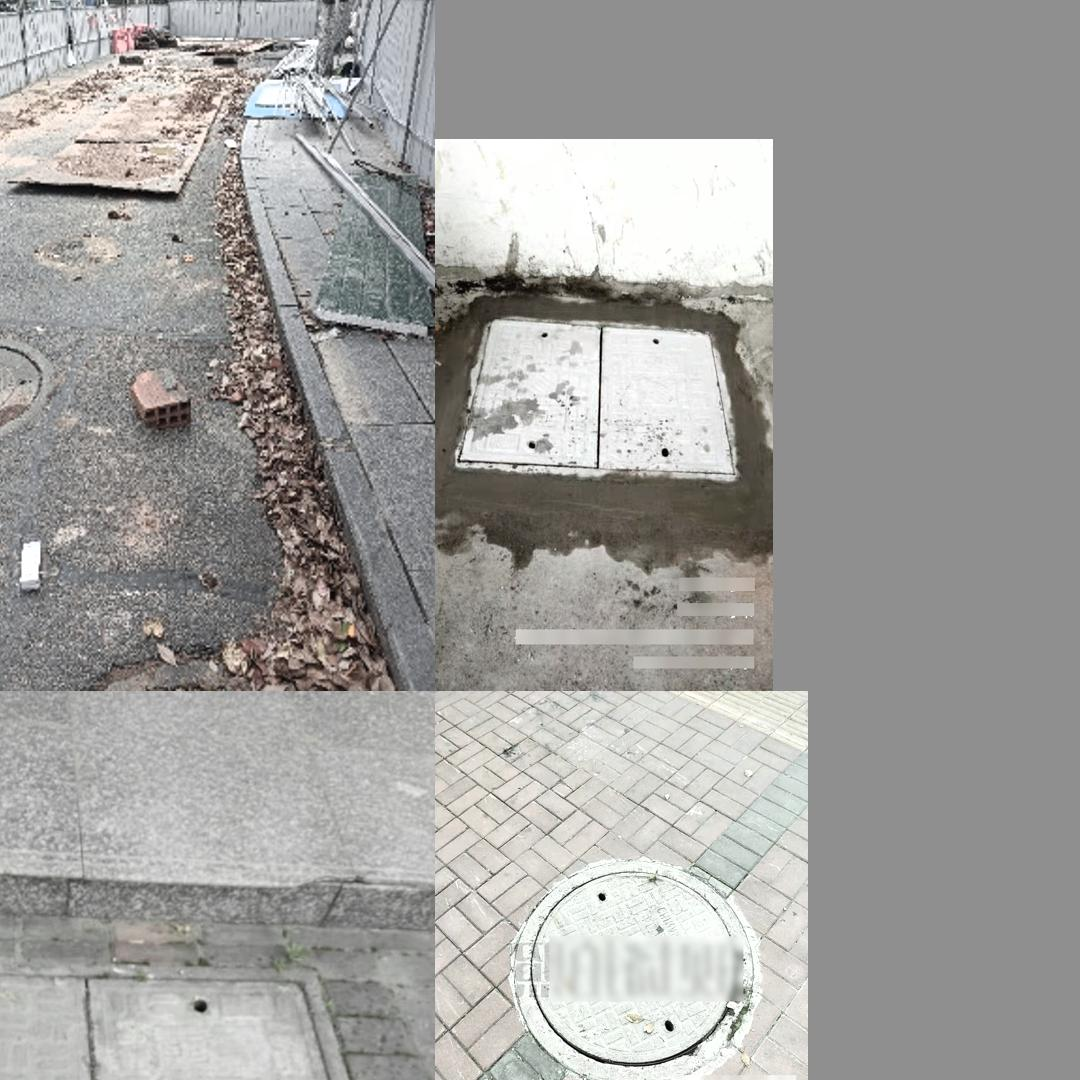good: (506, 865, 755, 1080), (0, 963, 404, 1080), (452, 323, 734, 470), (0, 336, 53, 448)
